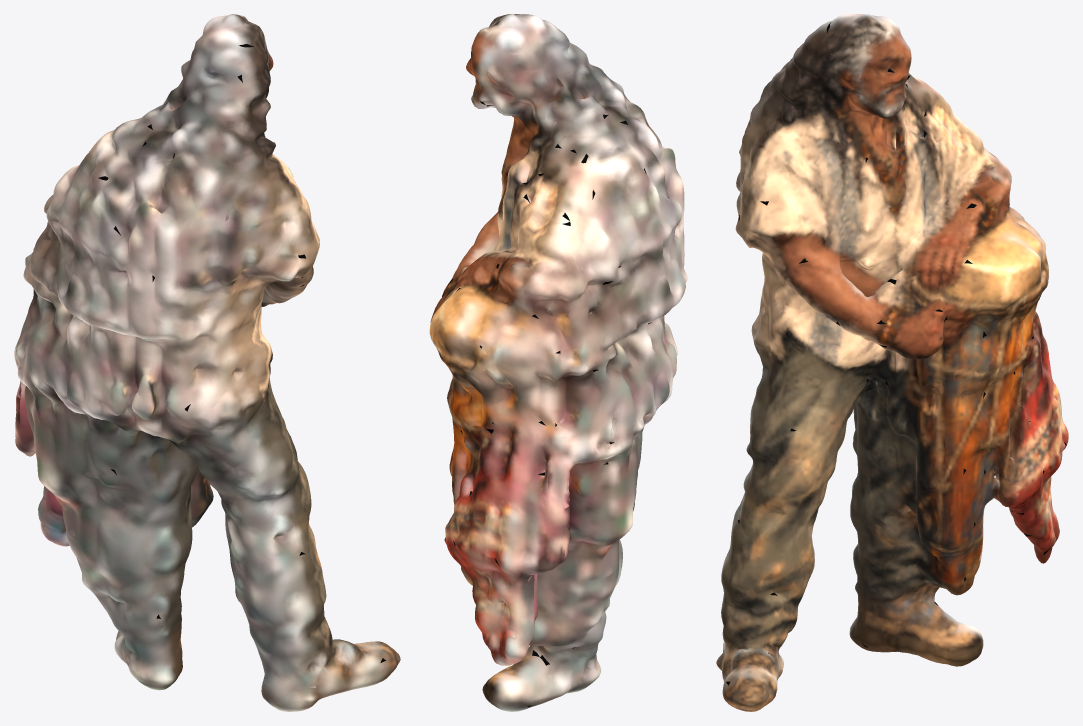
3 renders of one model, left to right at view 1: azimuth 30°, elevation 25°; view 2: azimuth 150°, elevation 25°; view 3: azimuth 270°, elevation 25°, orthographic. The views are drawn at different scales.
Parts seen in each view (by area): view 1: source-11; view 2: source-11; view 3: source-11.
Boxes of the visible parts, x1,y1,x2,y2 form: source-11: (14, 14, 400, 711); source-11: (429, 14, 687, 711); source-11: (716, 14, 1068, 711).
Bounding box in the file's own units: 0.8643 × 1.99 × 0.95.
Materials: 1 (1 with a texture image).
